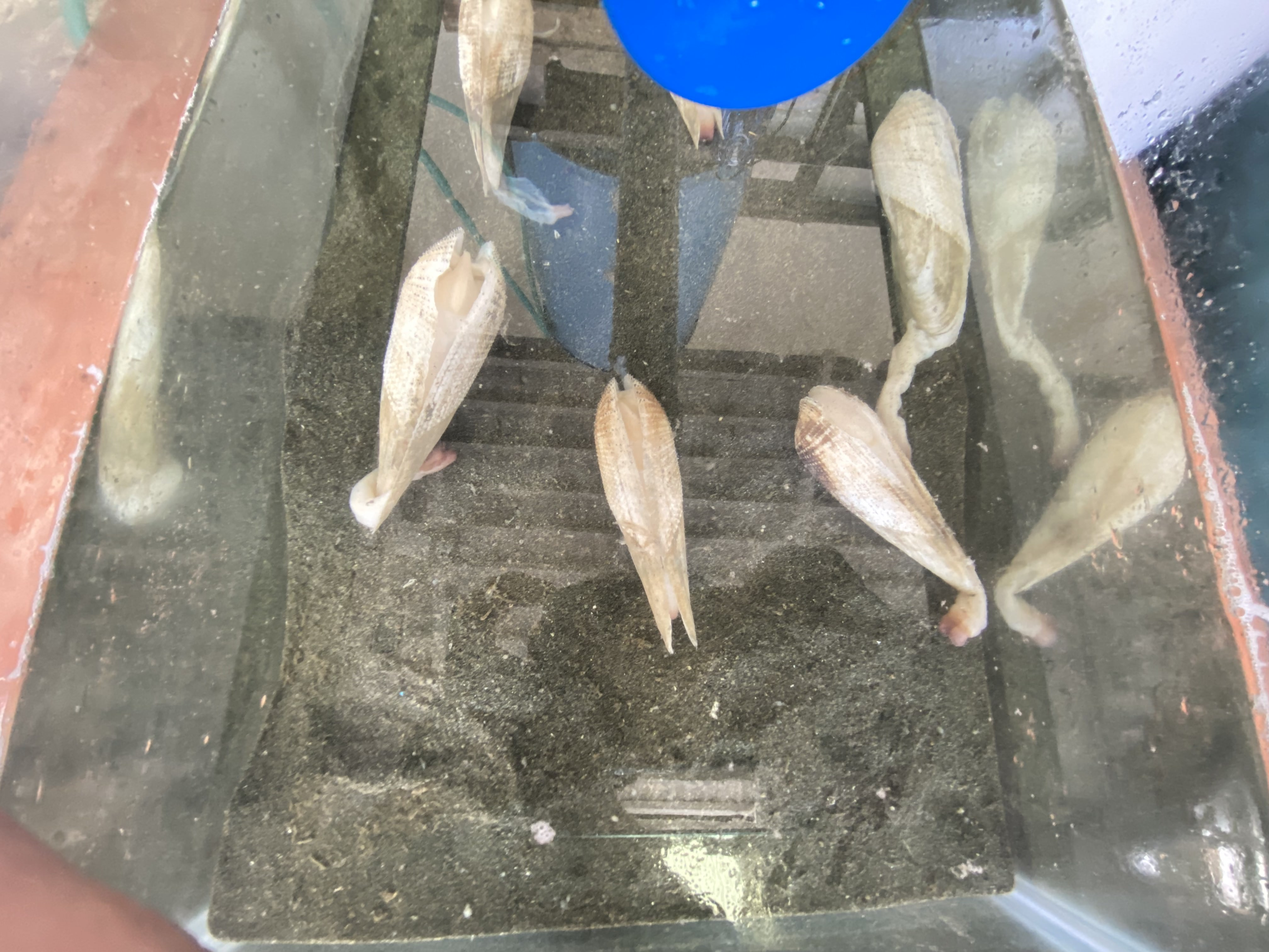At risk: (795, 91, 987, 644), (350, 229, 506, 530), (595, 374, 697, 651), (458, 0, 571, 224), (674, 96, 722, 145)
